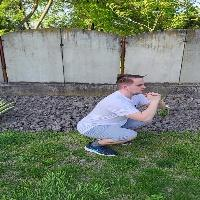squats: (74, 67, 166, 163)
